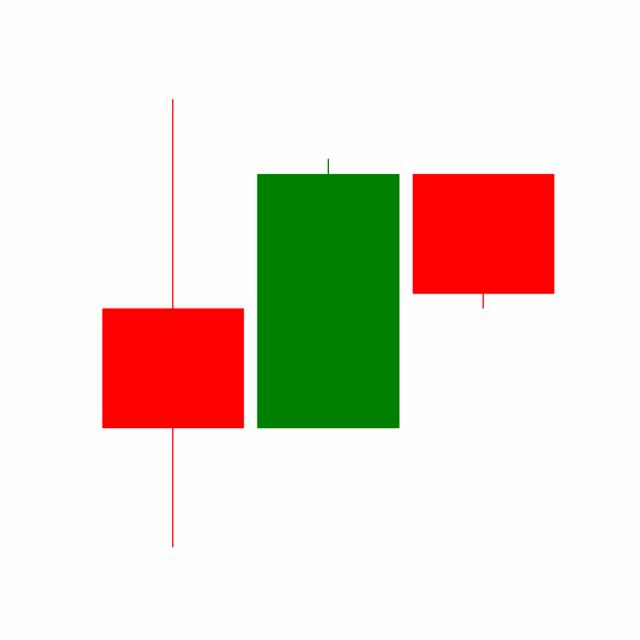Marubozu: (249, 155, 406, 431)
